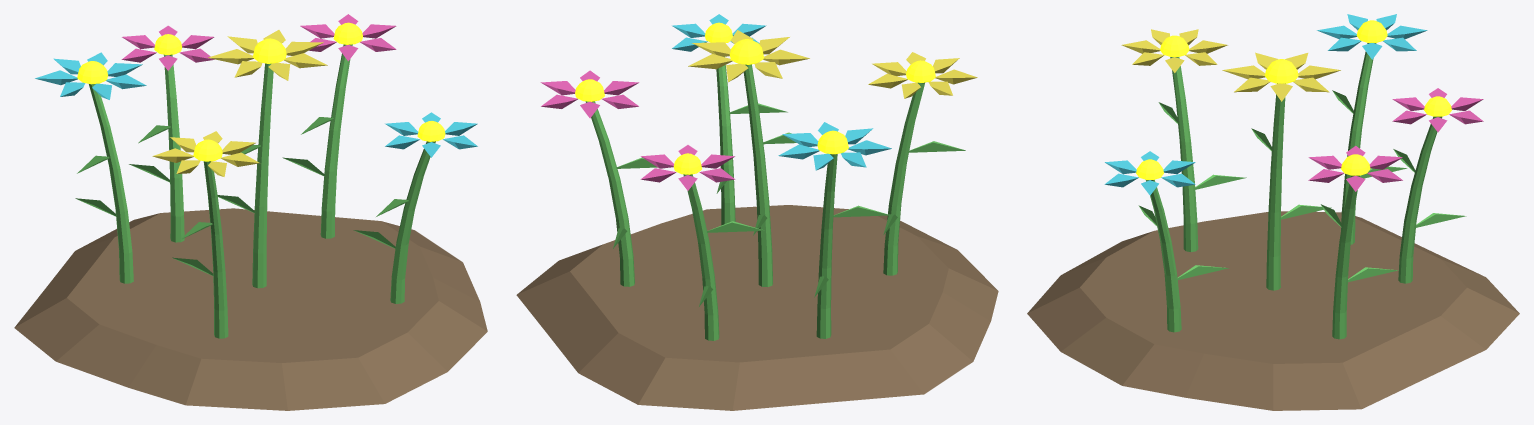
Rendered from SproutingFlowerPatch.fbx.
3 views of the same model, side by side, from view 1: azimuth 30°, elevation 25°; view 2: azimuth 150°, elevation 25°; view 3: azimuth 270°, elevation 25° (orthographic). The views are drawn at different scales.
Visible parts, largest first — view 1: Flower_BaseMound, Flower_Stem_1, Flower_Stem_3, Flower_Stem_2, Flower_Stem_5, Flower_Stem_6, Flower_Stem_4, Flower_Petals_1, Flower_Petals_3, Flower_Petals_5, Flower_Petals_2, Flower_Petals_4 (+7 smaller); view 2: Flower_BaseMound, Flower_Stem_1, Flower_Stem_5, Flower_Stem_3, Flower_Stem_2, Flower_Stem_6, Flower_Petals_1, Flower_Stem_4, Flower_Petals_3, Flower_Petals_5, Flower_Petals_2, Flower_Petals_6 (+7 smaller); view 3: Flower_BaseMound, Flower_Stem_1, Flower_Stem_5, Flower_Stem_6, Flower_Stem_2, Flower_Stem_4, Flower_Petals_1, Flower_Petals_3, Flower_Petals_5, Flower_Stem_3, Flower_Petals_2, Flower_Petals_4 (+7 smaller).
Part boxes in pixels (x1,y1,x2,y2): Flower_BaseMound: (14, 208, 487, 410); Flower_Stem_1: (217, 63, 273, 288); Flower_Stem_3: (75, 84, 133, 283); Flower_Stem_2: (282, 44, 352, 238); Flower_Stem_5: (172, 161, 228, 338); Flower_Stem_6: (129, 54, 184, 242); Flower_Stem_4: (353, 141, 435, 303); Flower_Petals_1: (208, 30, 327, 80); Flower_Petals_3: (35, 52, 146, 99); Flower_Petals_5: (152, 131, 259, 176); Flower_Petals_2: (300, 14, 396, 61); Flower_Petals_4: (385, 112, 477, 157); Flower_BaseMound: (516, 205, 998, 410); Flower_Stem_1: (743, 64, 796, 286); Flower_Stem_5: (883, 82, 965, 275); Flower_Stem_3: (814, 154, 890, 338); Flower_Stem_2: (585, 101, 657, 286); Flower_Stem_6: (683, 174, 765, 340); Flower_Petals_1: (688, 30, 809, 82); Flower_Stem_4: (716, 56, 787, 225); Flower_Petals_3: (778, 122, 891, 170); Flower_Petals_5: (868, 52, 977, 98); Flower_Petals_2: (540, 70, 639, 118); Flower_Petals_6: (640, 145, 735, 190); Flower_BaseMound: (1027, 211, 1519, 410); Flower_Stem_1: (1251, 83, 1331, 290); Flower_Stem_5: (1158, 57, 1246, 251); Flower_Stem_6: (1393, 116, 1466, 283); Flower_Stem_2: (1320, 175, 1398, 339); Flower_Stem_4: (1138, 180, 1228, 332); Flower_Petals_1: (1222, 52, 1340, 101); Flower_Petals_3: (1317, 14, 1427, 59); Flower_Petals_5: (1121, 29, 1227, 72); Flower_Stem_3: (1332, 43, 1407, 244); Flower_Petals_2: (1308, 146, 1402, 191); Flower_Petals_4: (1104, 151, 1195, 195).
Bounding box in the file's own units: 0.56 × 0.3487 × 0.5992.
